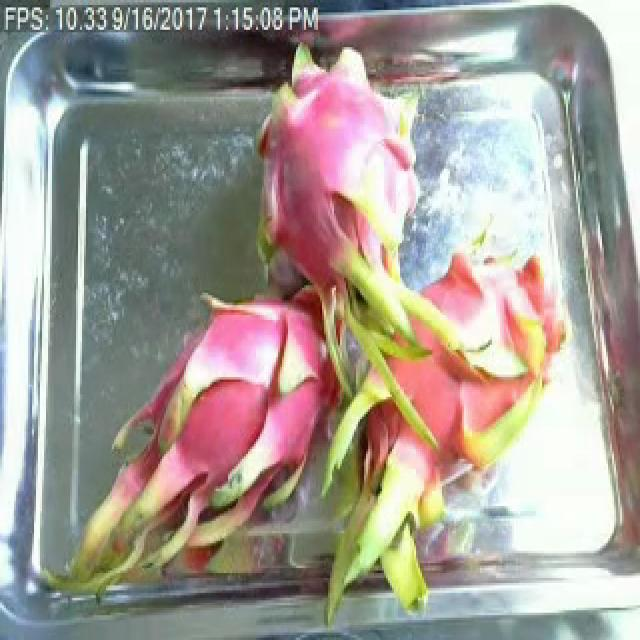Fruit: (172, 362, 280, 516)
